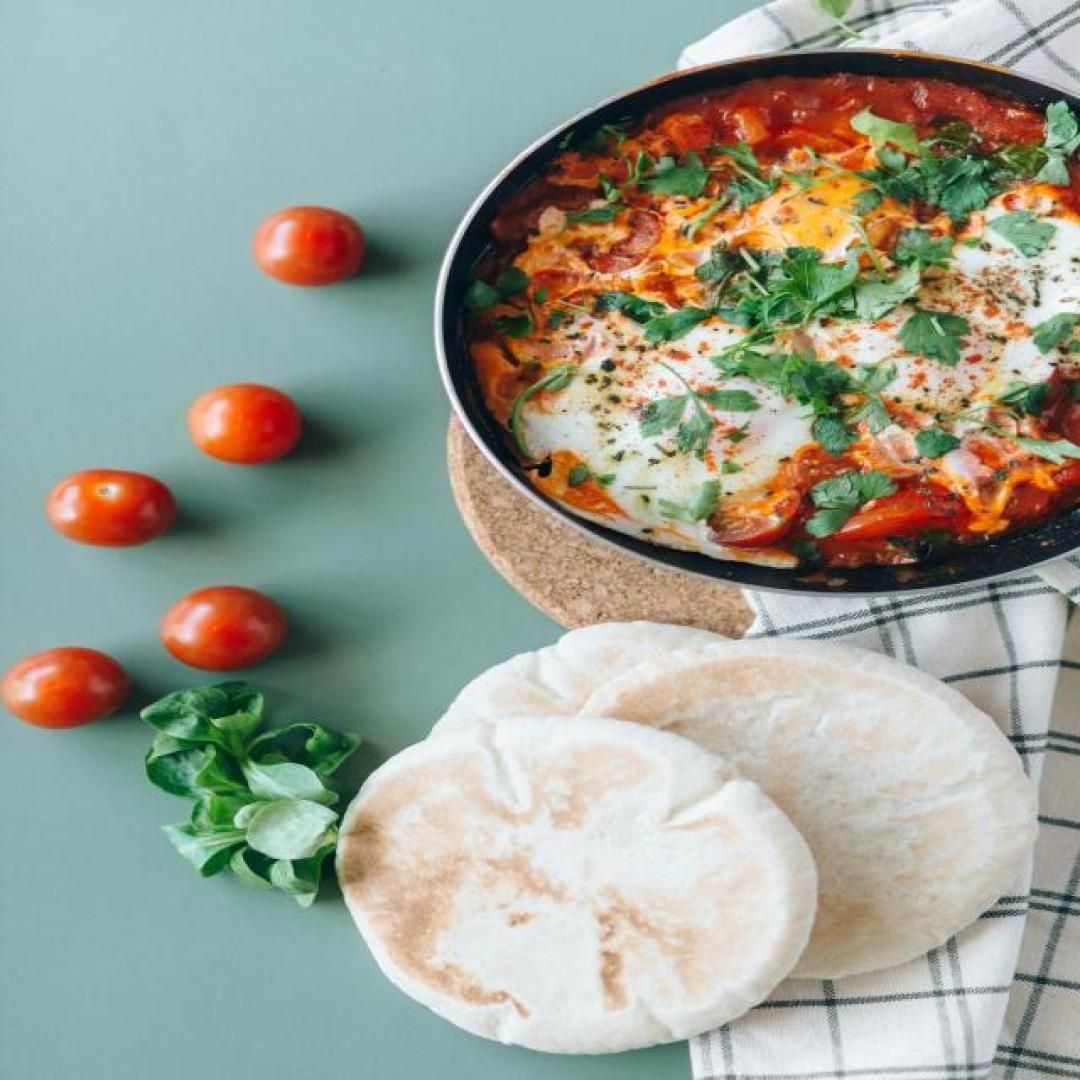matang: (0, 644, 132, 730), (160, 586, 287, 675), (44, 469, 177, 549), (187, 383, 307, 464), (251, 206, 366, 288)
